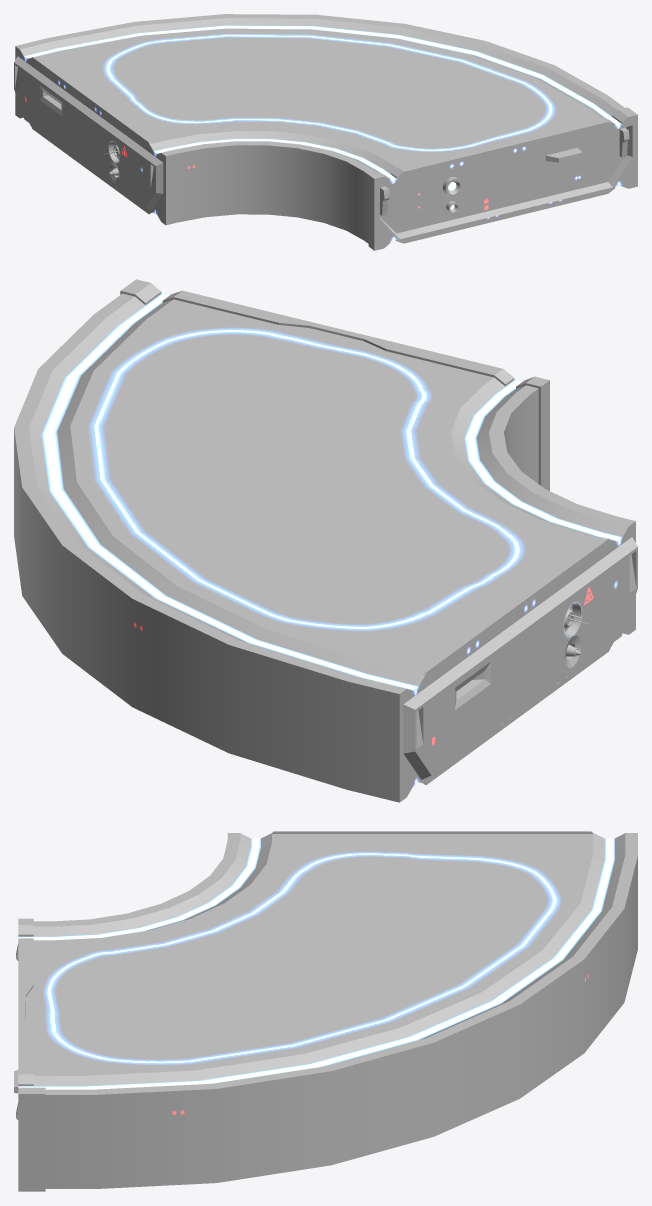
File: TurnLeft-2S_Caps.fbx
The picture shows the model from 3 angles, top to bottom: view 1: azimuth 30°, elevation 25°; view 2: azimuth 150°, elevation 25°; view 3: azimuth 270°, elevation 25°; orthographic projection. The views are drawn at different scales.
Visible parts, largest first — view 1: TurnLeft-2S_Caps; view 2: TurnLeft-2S_Caps; view 3: TurnLeft-2S_Caps.
Boxes of the visible parts, bbox=[...] form: TurnLeft-2S_Caps: bbox=[14, 14, 637, 250]; TurnLeft-2S_Caps: bbox=[14, 279, 637, 802]; TurnLeft-2S_Caps: bbox=[14, 831, 637, 1191].
Bounding box in the file's own units: 3.91 × 0.6517 × 3.76.
